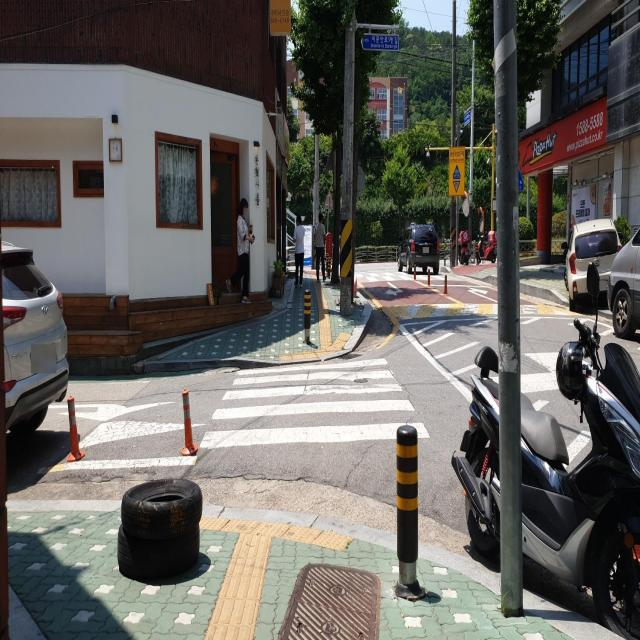횡단보도: (198, 356, 430, 450)
